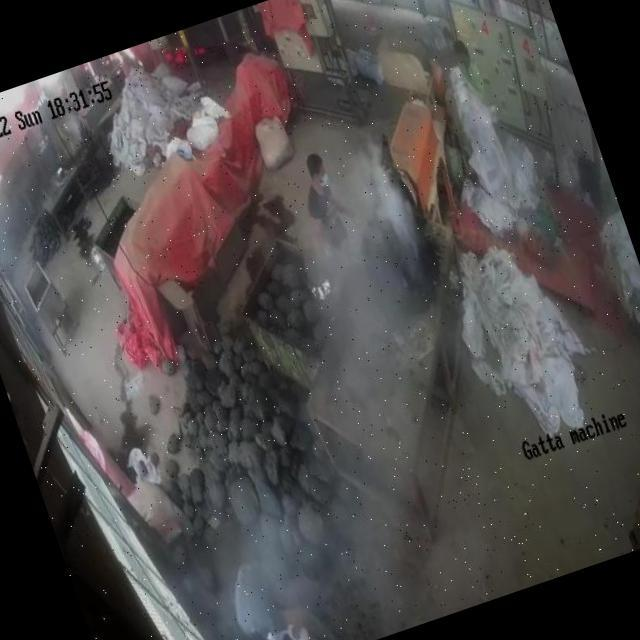person: (294, 144, 364, 260), (450, 30, 492, 104)
